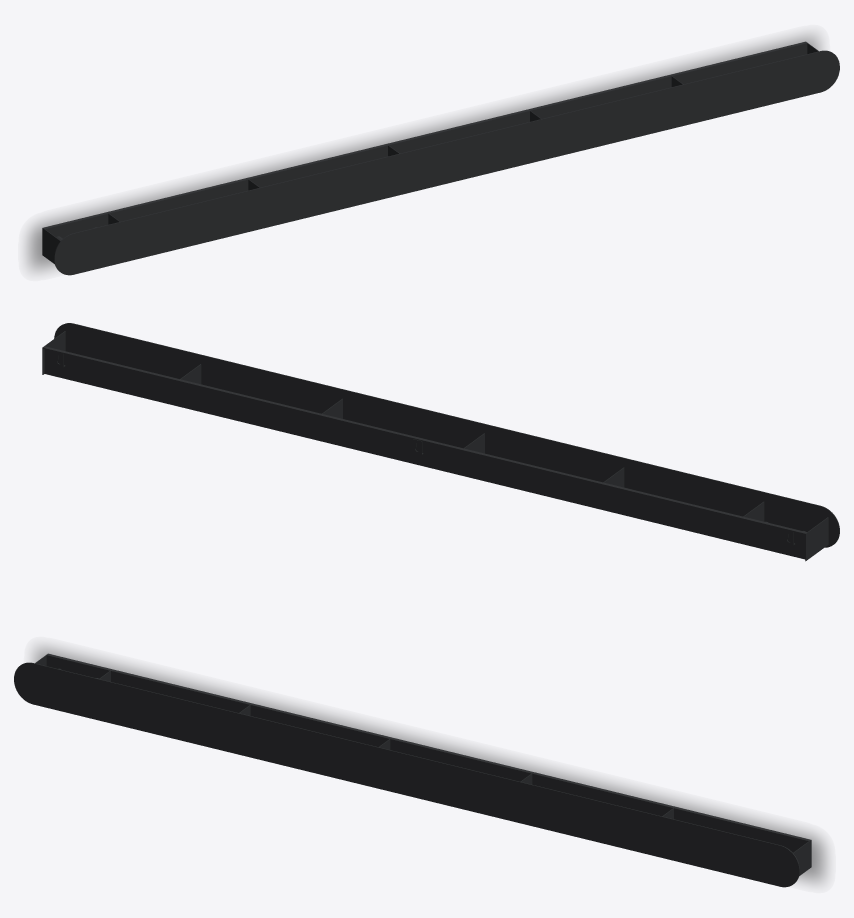
The model's file is round-patron.5ee2410c6b.ar.glb.
3 renders of one model, top to bottom at view 1: azimuth 30°, elevation 25°; view 2: azimuth 150°, elevation 25°; view 3: azimuth 330°, elevation 25°, orthographic.
Visible parts, largest first — view 1: NAUO1, object 2; view 2: NAUO1; view 3: NAUO1, object 2.
Boxes of the visible parts, x1,y1,x2,y2 form: NAUO1: [42, 41, 839, 275]; object 2: [26, 34, 821, 271]; NAUO1: [42, 323, 839, 561]; NAUO1: [14, 653, 811, 887]; object 2: [32, 646, 827, 883].
Size of the model in its own units: 1.88 by 0.17 by 0.0929.
Materials: 2 (1 with a texture image).
